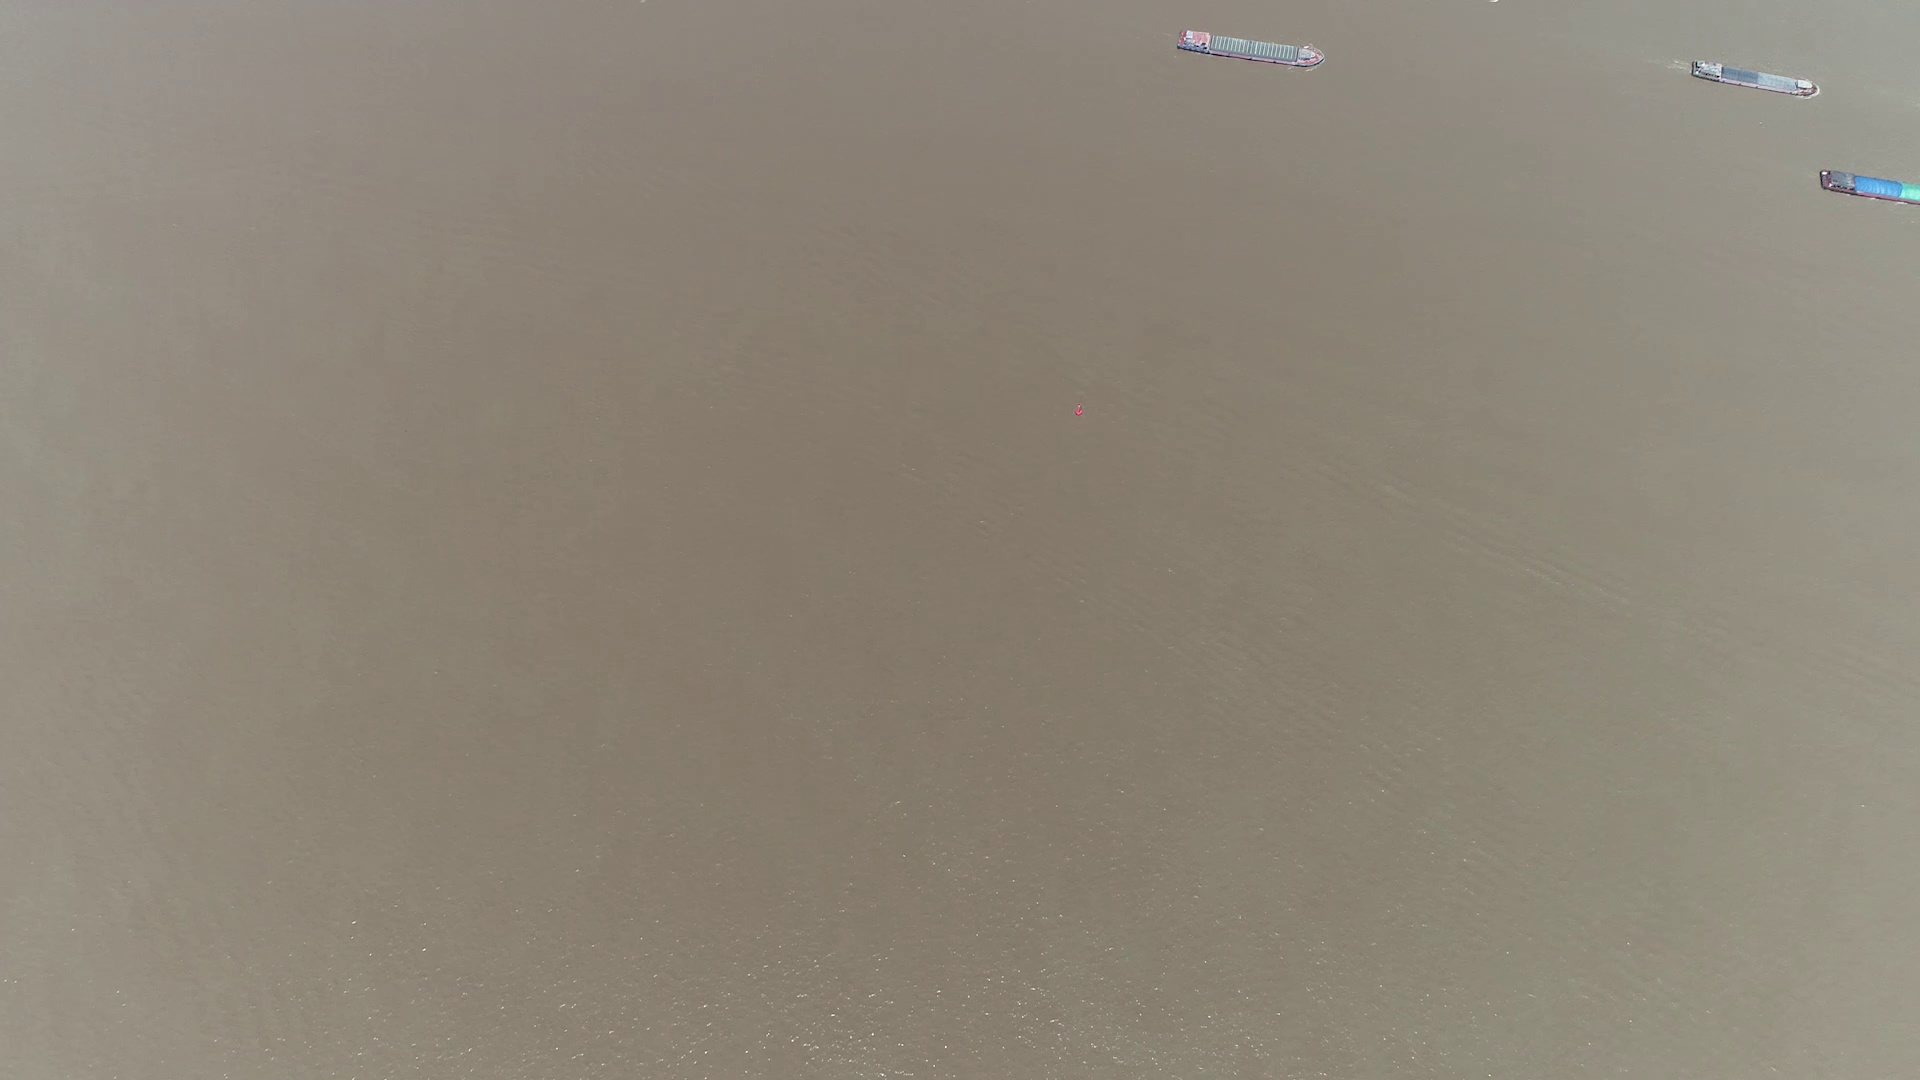ship: (1178, 29, 1327, 69), (1691, 58, 1815, 96), (1818, 167, 1919, 204)
